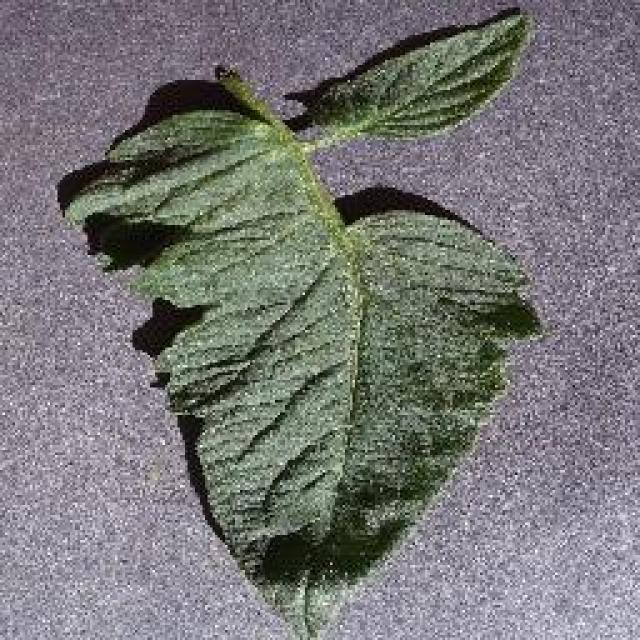Tomato___healthy: (58, 9, 550, 638)
